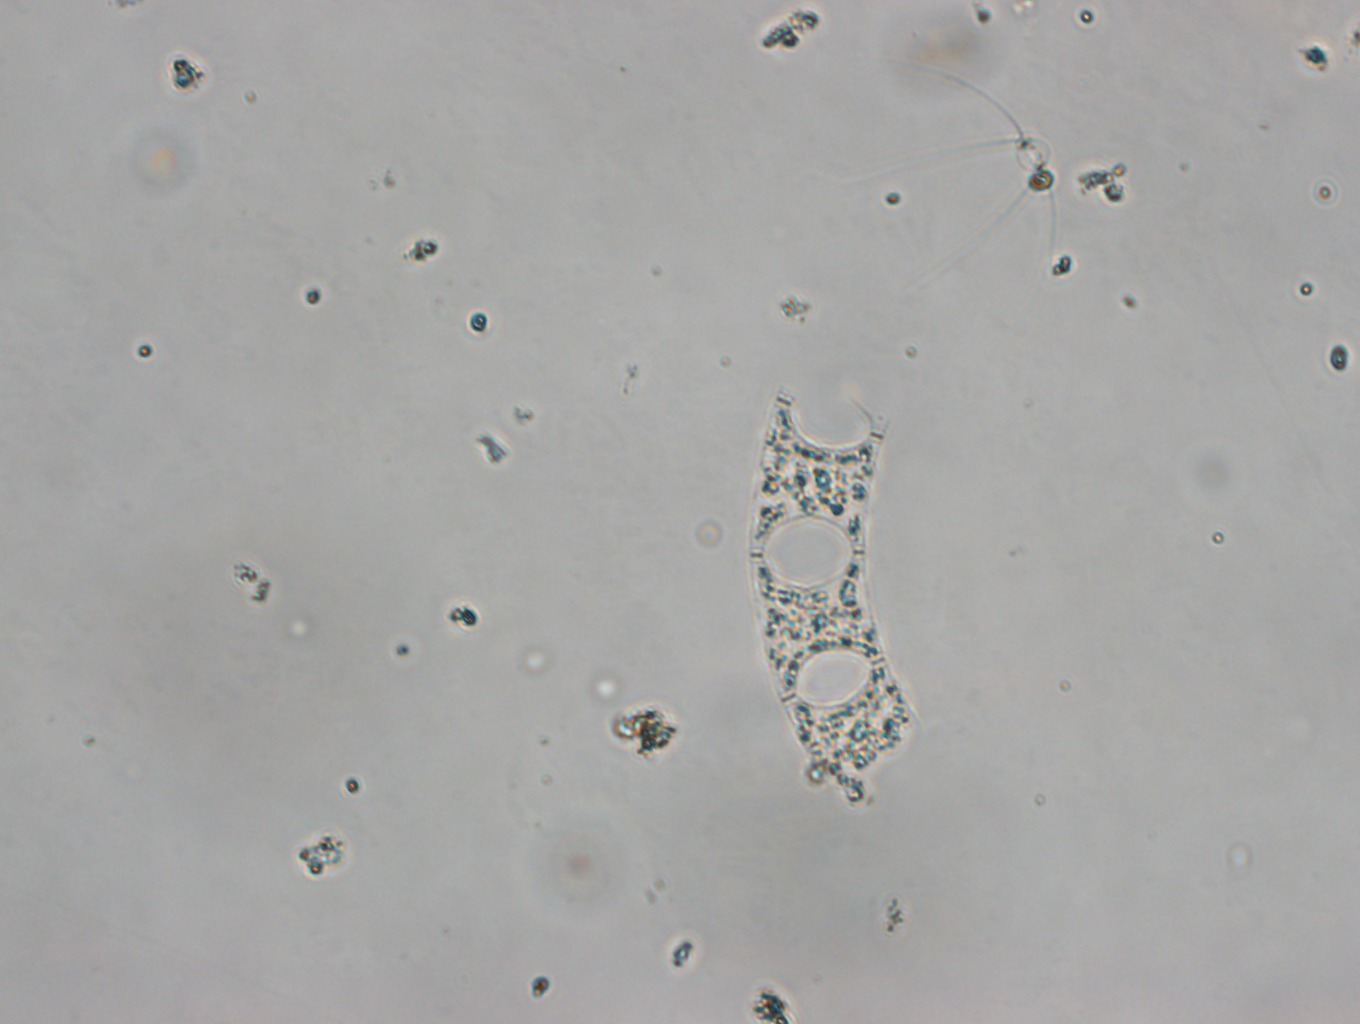eucampia: (748, 387, 916, 798)
